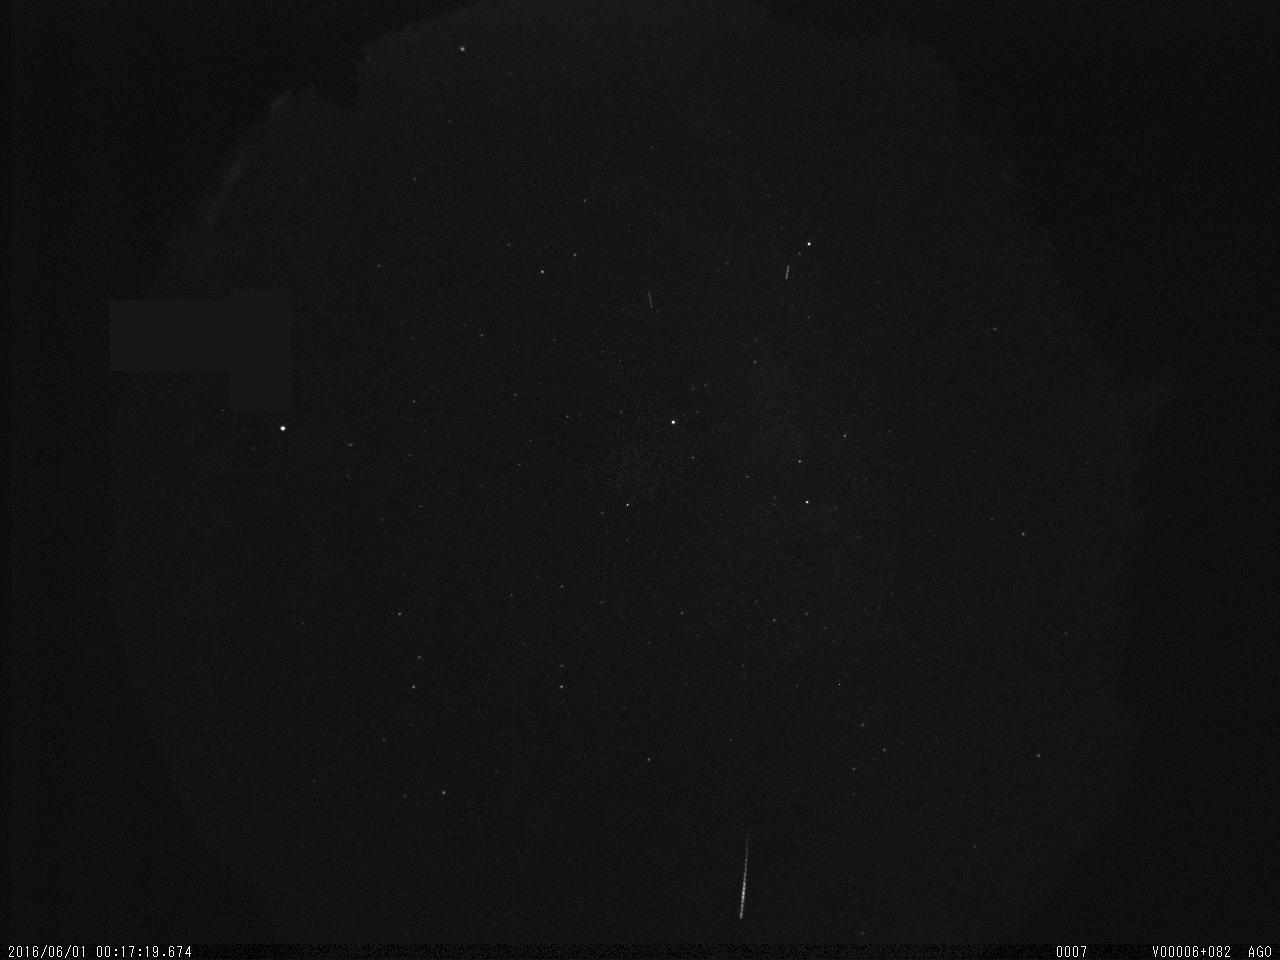meteor: (723, 824, 766, 927)
satelite: (778, 259, 796, 288)
